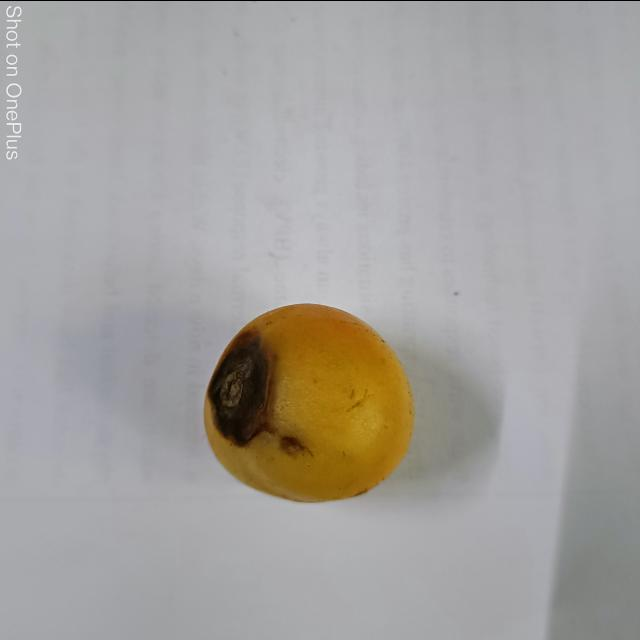Anthrocnose: (206, 322, 284, 442)
